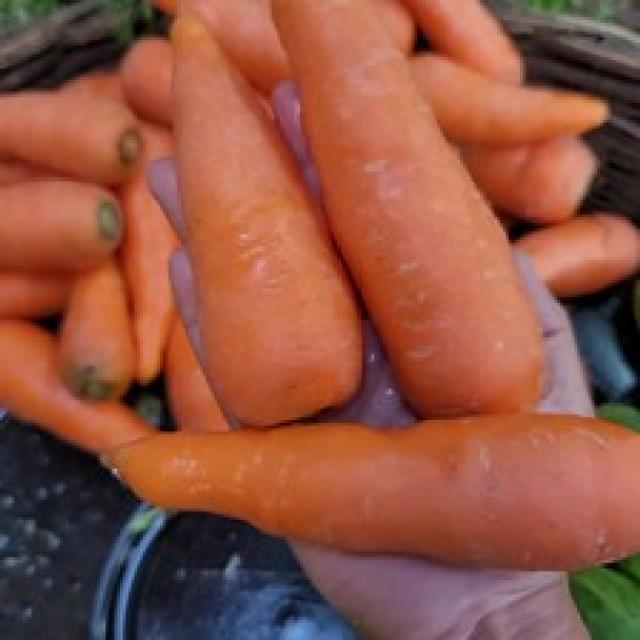Fresh_Carrot: (260, 0, 485, 394), (164, 14, 342, 402), (103, 418, 628, 545)
